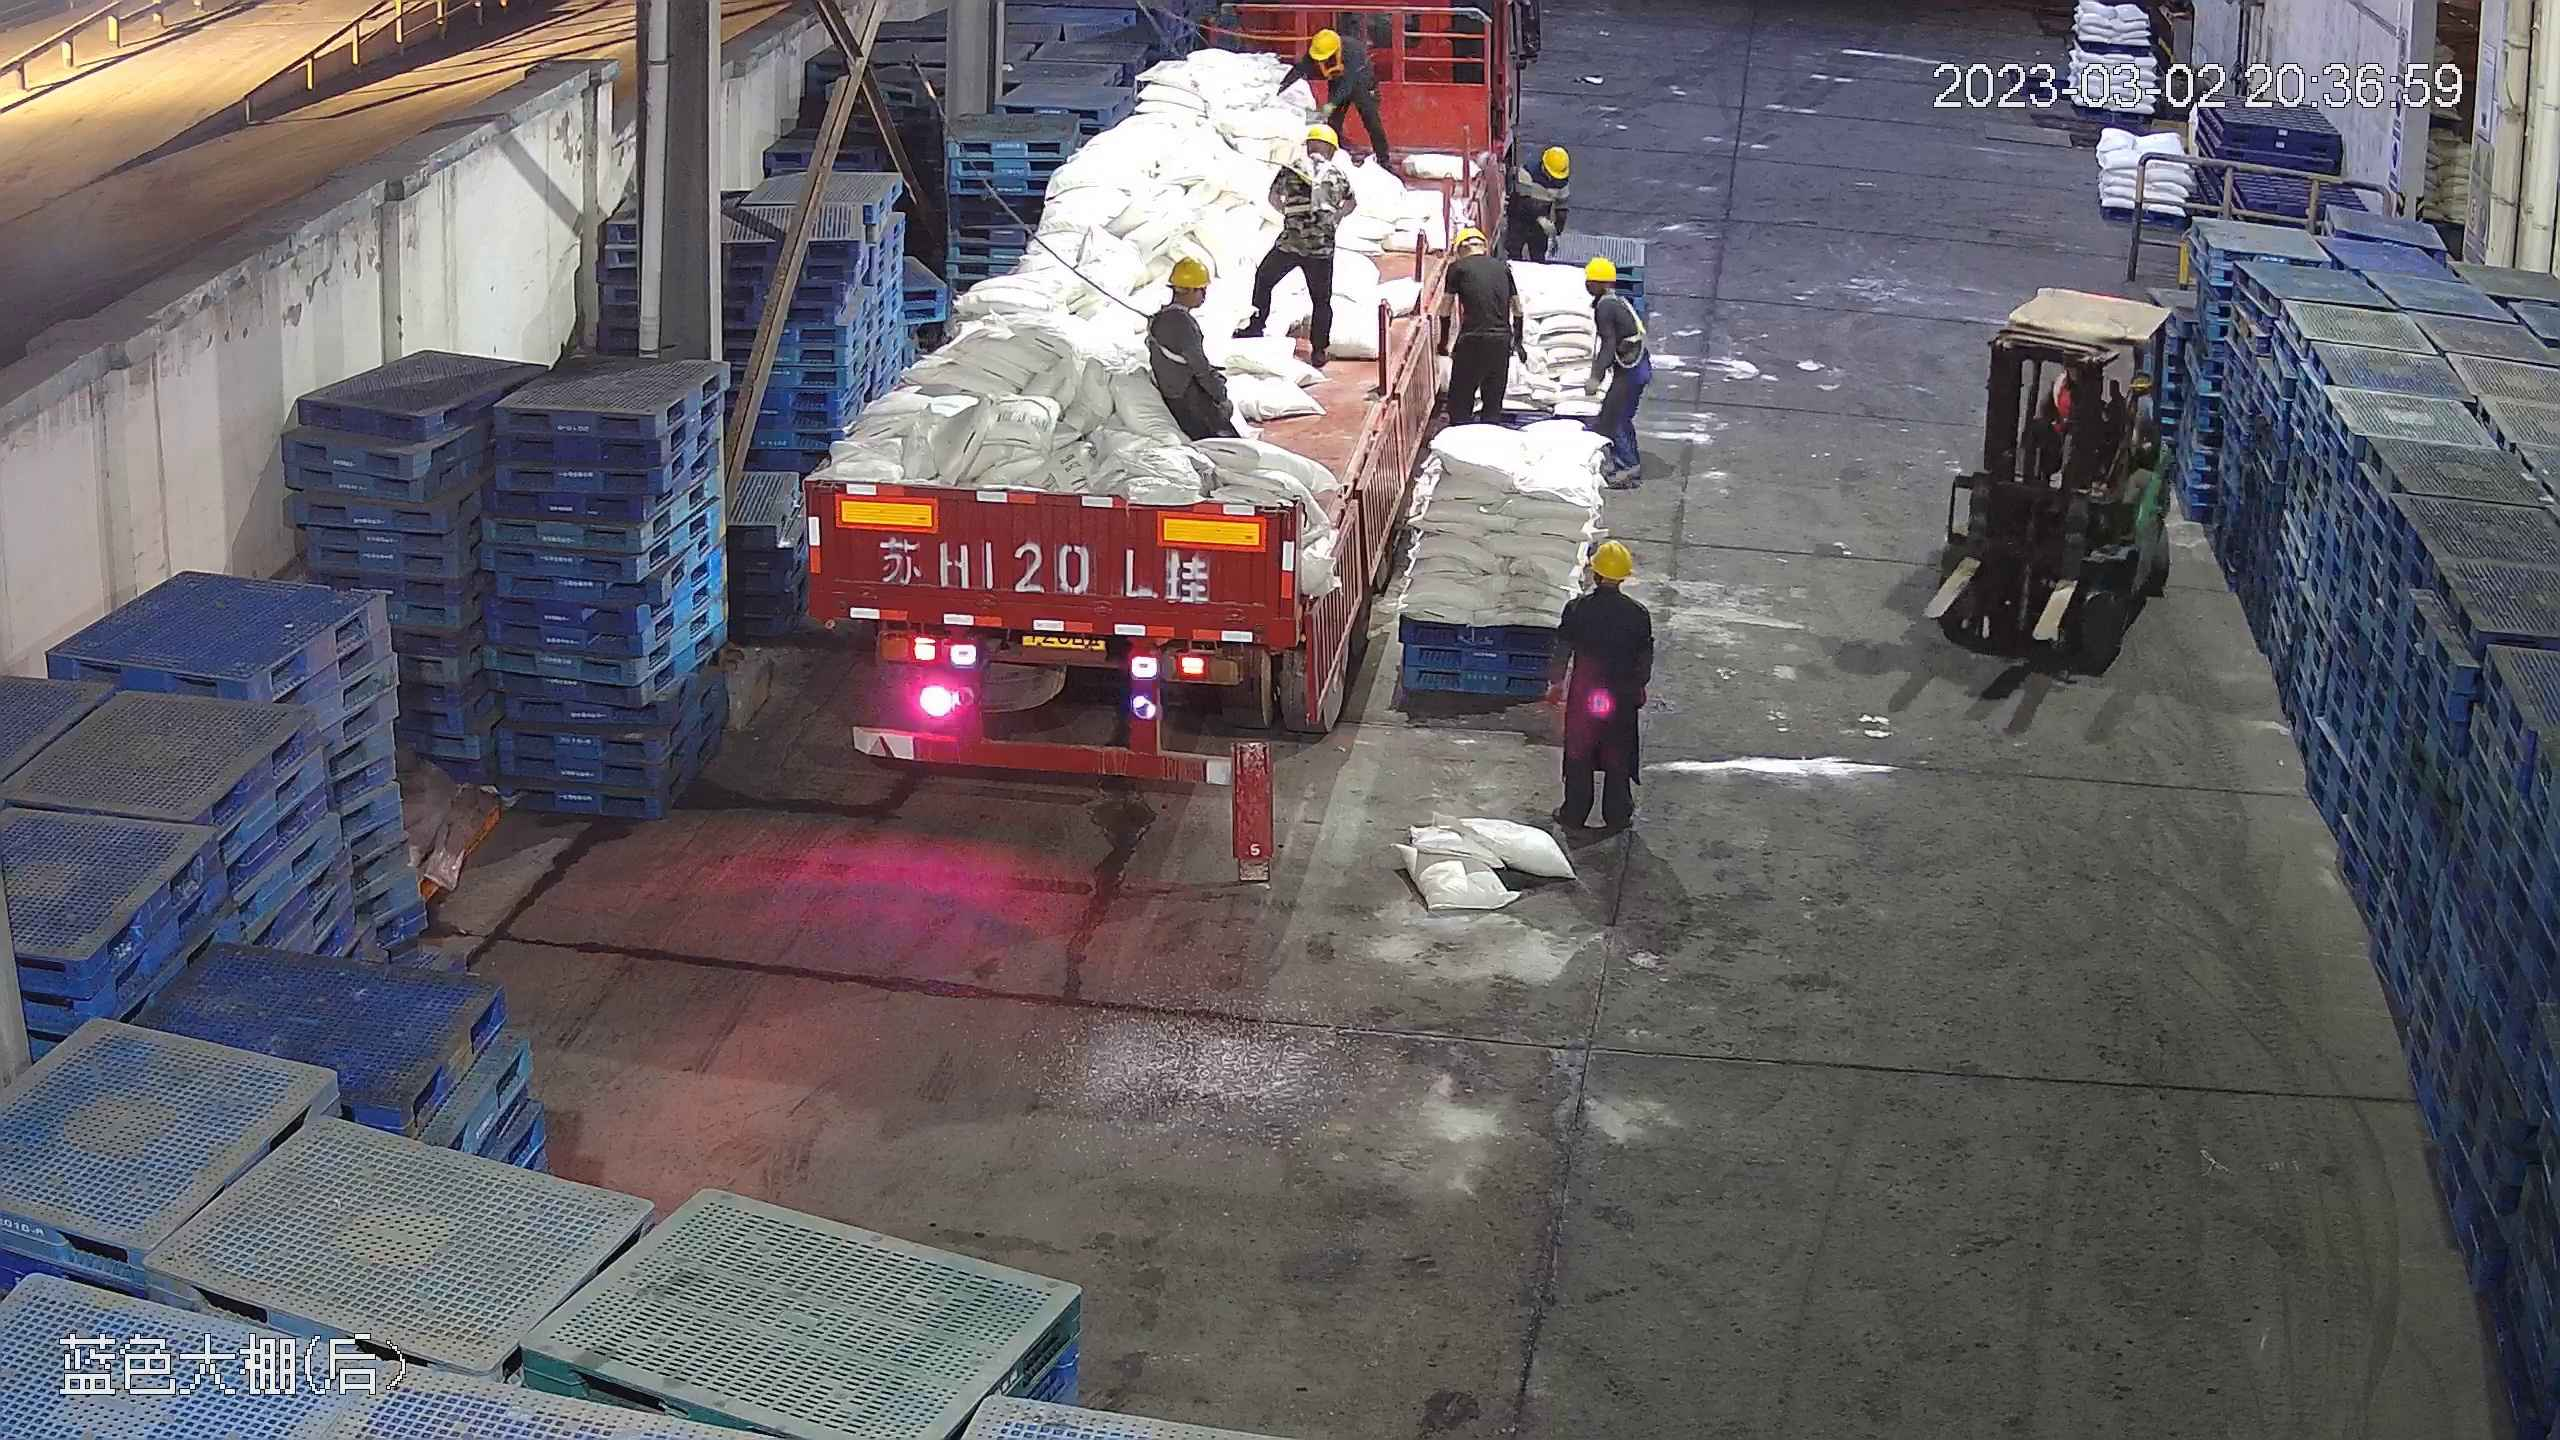belt: (1143, 299, 1198, 366), (1597, 297, 1647, 358), (1285, 170, 1336, 219), (1317, 50, 1348, 81)
head: (1558, 537, 1652, 642), (1147, 251, 1217, 345), (1440, 225, 1515, 295), (1582, 256, 1643, 341), (1276, 132, 1346, 199), (1501, 145, 1568, 213), (1303, 25, 1361, 81)
helmet: (1585, 538, 1634, 577), (1167, 253, 1214, 290), (1540, 145, 1571, 179), (1310, 25, 1342, 58), (1454, 222, 1491, 249), (1303, 124, 1340, 149), (1582, 256, 1619, 279)
people: (1547, 536, 1656, 838), (1246, 132, 1350, 361), (1143, 254, 1244, 445), (1432, 219, 1523, 430), (1576, 256, 1655, 492), (1283, 25, 1386, 166), (1495, 129, 1577, 279)
truck: (816, 9, 1502, 786)
